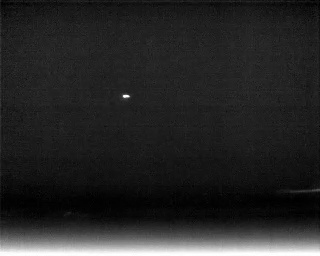AIRPLANE: (120, 91, 132, 101)
